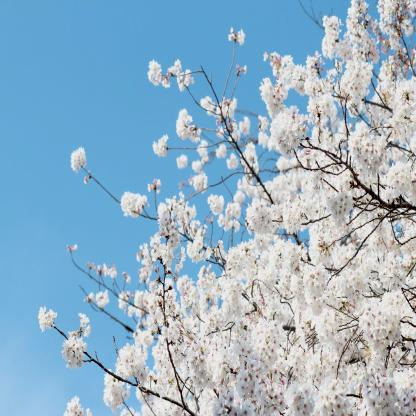Someiyoshino: (28, 2, 415, 415)
